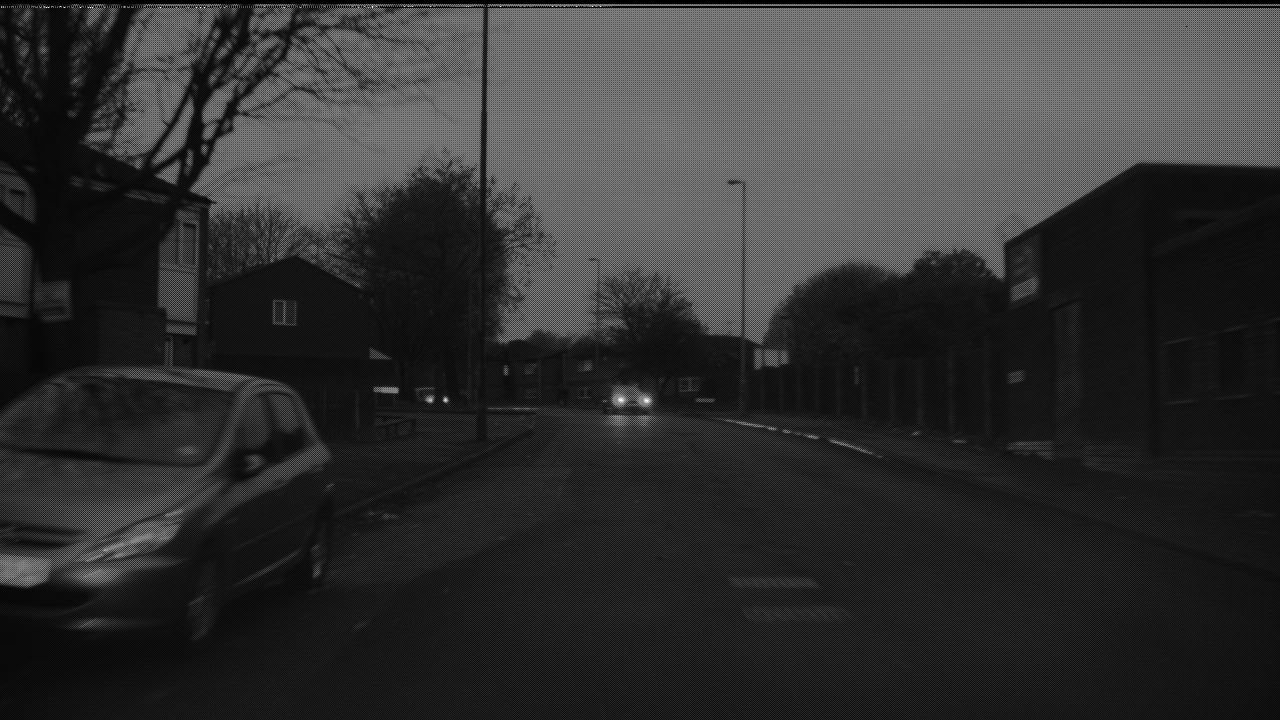pole: (474, 1, 490, 439), (740, 180, 749, 418)
